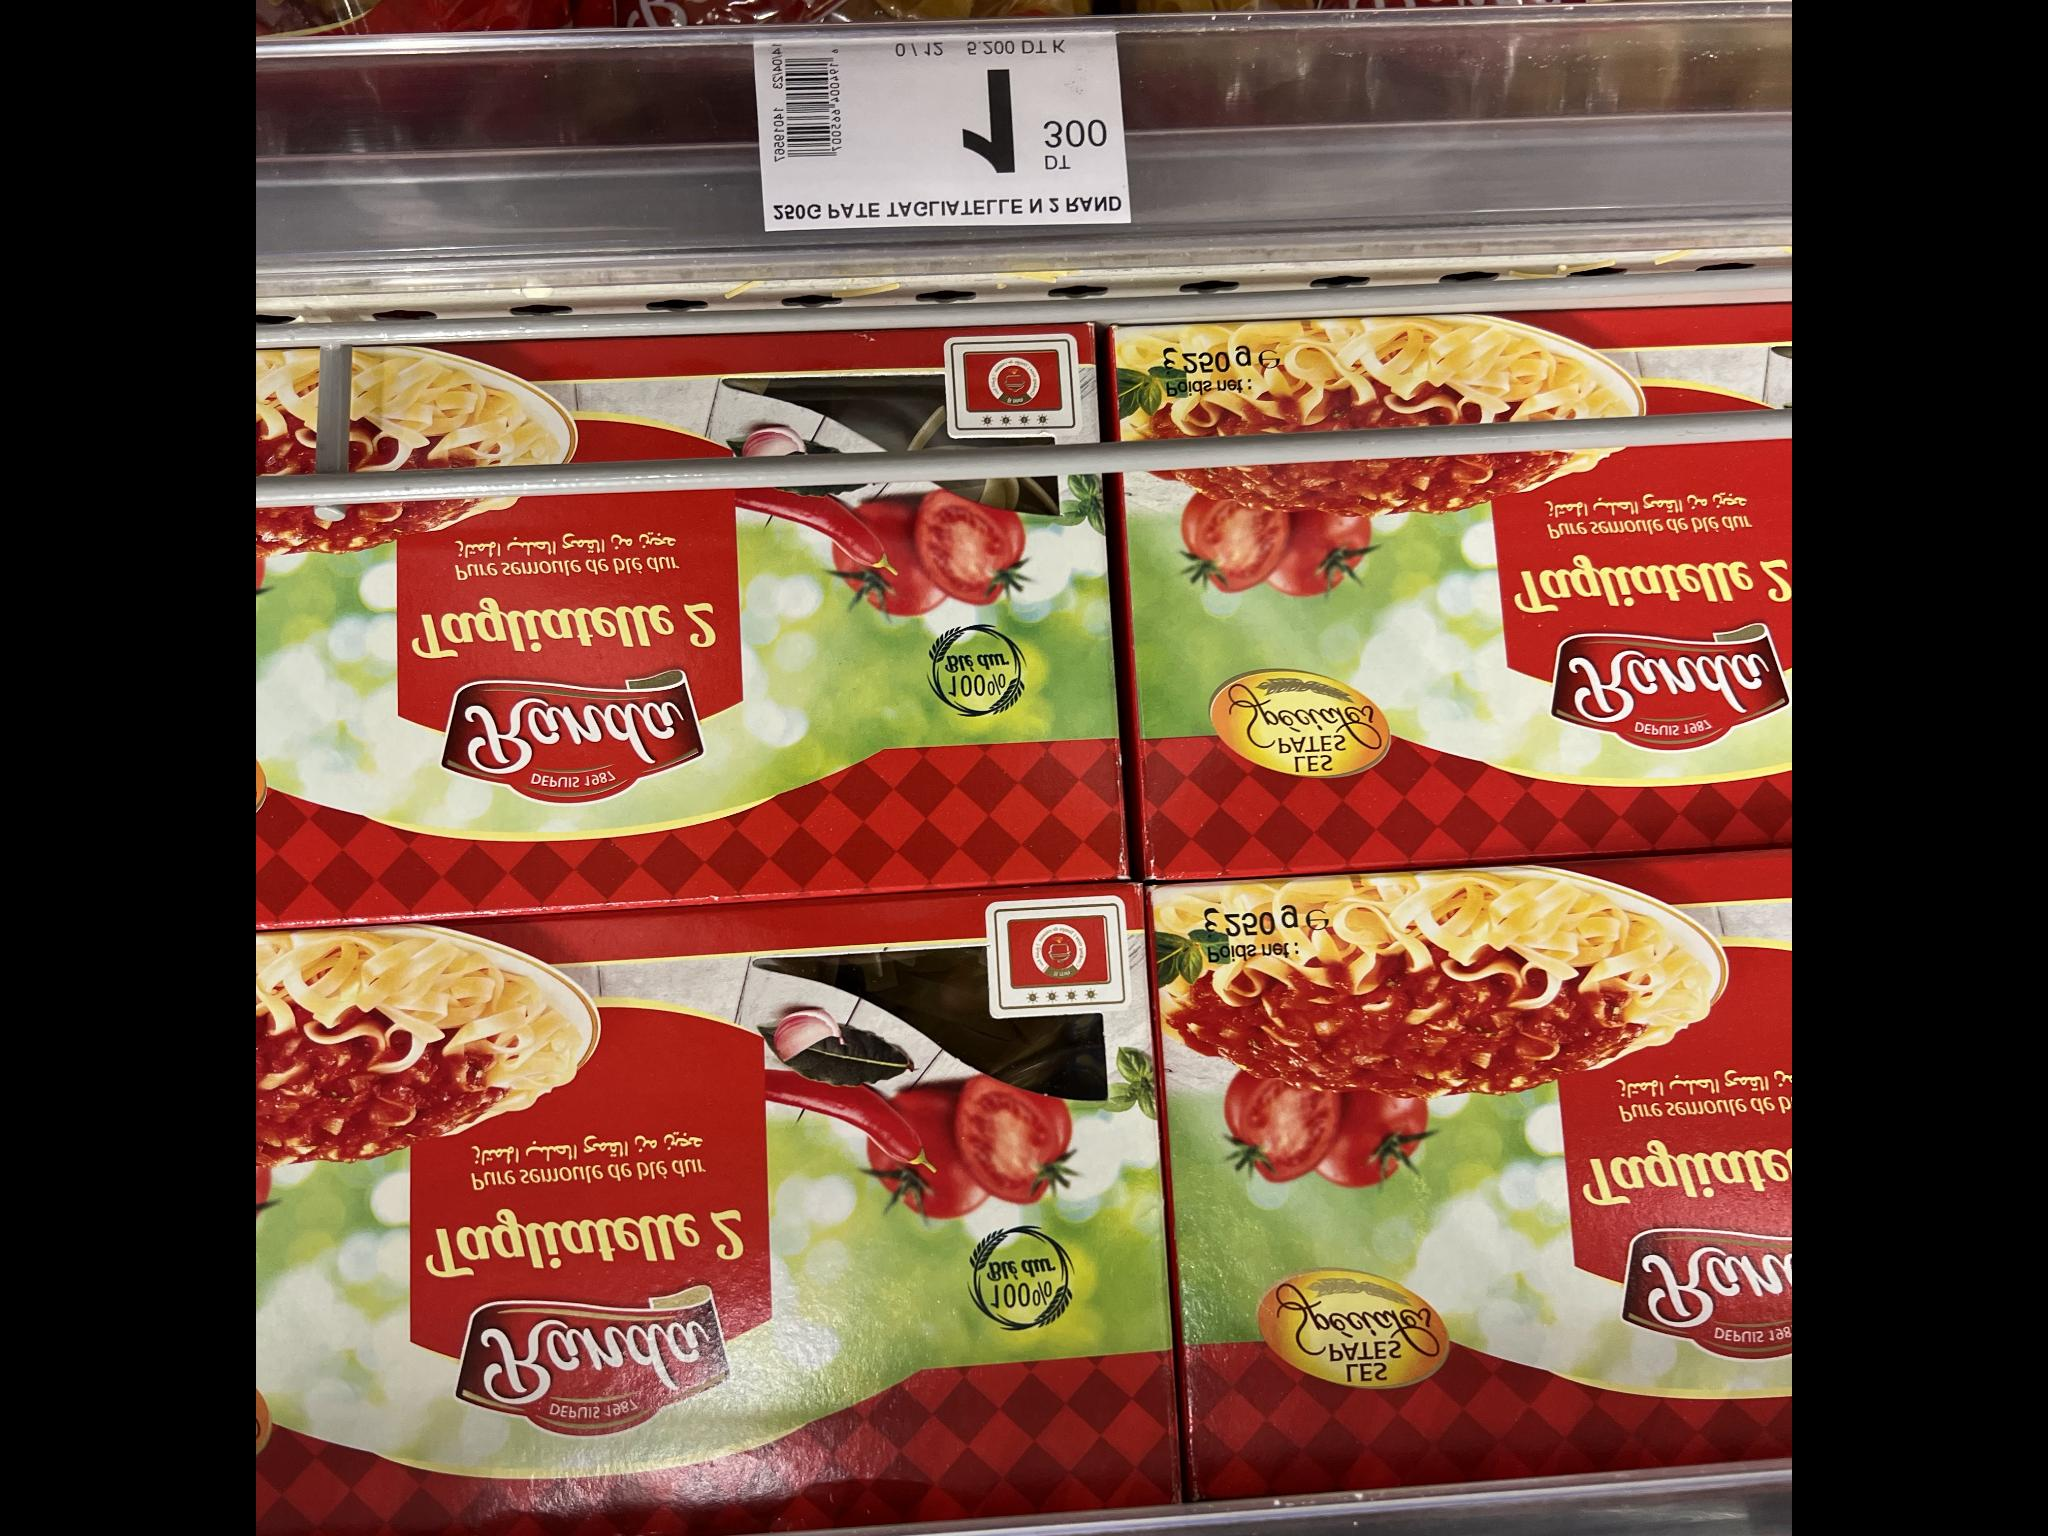Tagliatelle: (258, 892, 1174, 1536), (264, 339, 1113, 889)
